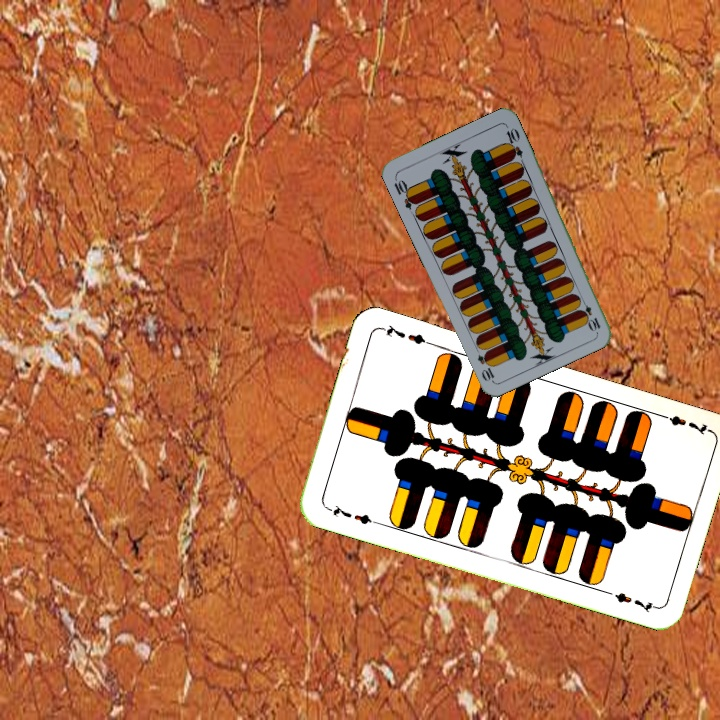E10: (390, 173, 419, 212), (576, 295, 603, 334)
E7: (654, 409, 711, 438), (322, 500, 380, 527)
